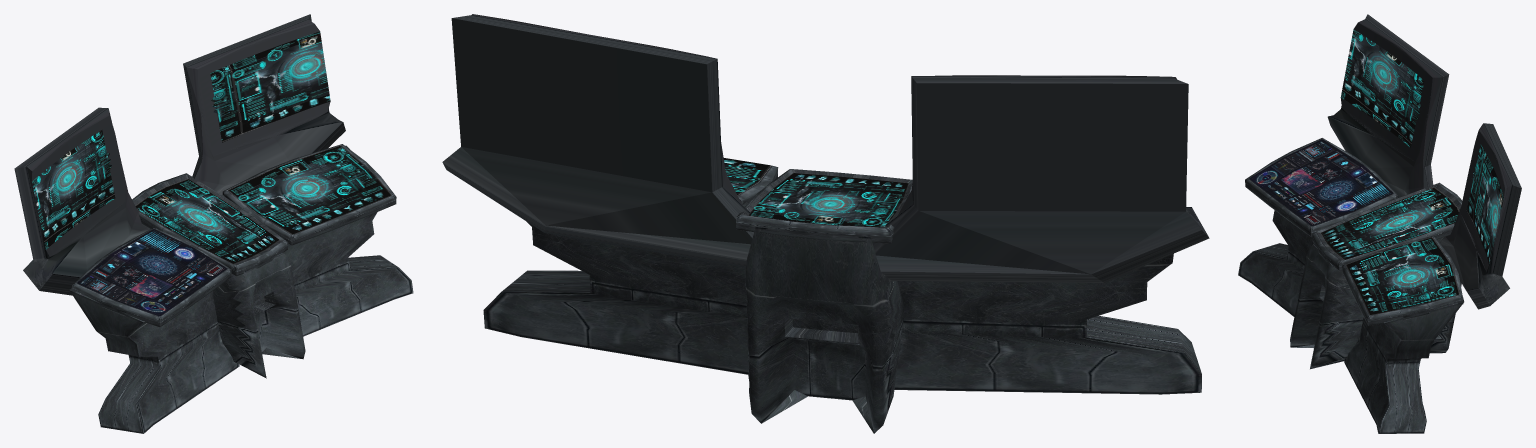
Rendered from desk-console.glb.
3 views of the same model, side by side, from view 1: azimuth 30°, elevation 25°; view 2: azimuth 150°, elevation 25°; view 3: azimuth 270°, elevation 25° (orthographic). The views are drawn at different scales.
Visible parts, largest first — view 1: MaterialFBXASC032FBXASC0352142146907, MaterialFBXASC032FBXASC03511186, MaterialFBXASC032FBXASC0352142146802; view 2: MaterialFBXASC032FBXASC0352142146907, MaterialFBXASC032FBXASC03511186; view 3: MaterialFBXASC032FBXASC0352142146907, MaterialFBXASC032FBXASC03511186, MaterialFBXASC032FBXASC0352142146802.
Part boxes in pixels (left/top/right/bottom): MaterialFBXASC032FBXASC0352142146907: left=14, top=14, right=413, bottom=433; MaterialFBXASC032FBXASC03511186: left=32, top=31, right=391, bottom=264; MaterialFBXASC032FBXASC0352142146802: left=77, top=229, right=227, bottom=316; MaterialFBXASC032FBXASC0352142146907: left=442, top=14, right=1209, bottom=433; MaterialFBXASC032FBXASC03511186: left=723, top=158, right=908, bottom=227; MaterialFBXASC032FBXASC0352142146907: left=1238, top=14, right=1521, bottom=433; MaterialFBXASC032FBXASC03511186: left=1321, top=29, right=1503, bottom=315; MaterialFBXASC032FBXASC0352142146802: left=1249, top=139, right=1393, bottom=226.
Size of the model in its own units: 14.36 by 8.18 by 8.82.
3 materials, 3 textured.
